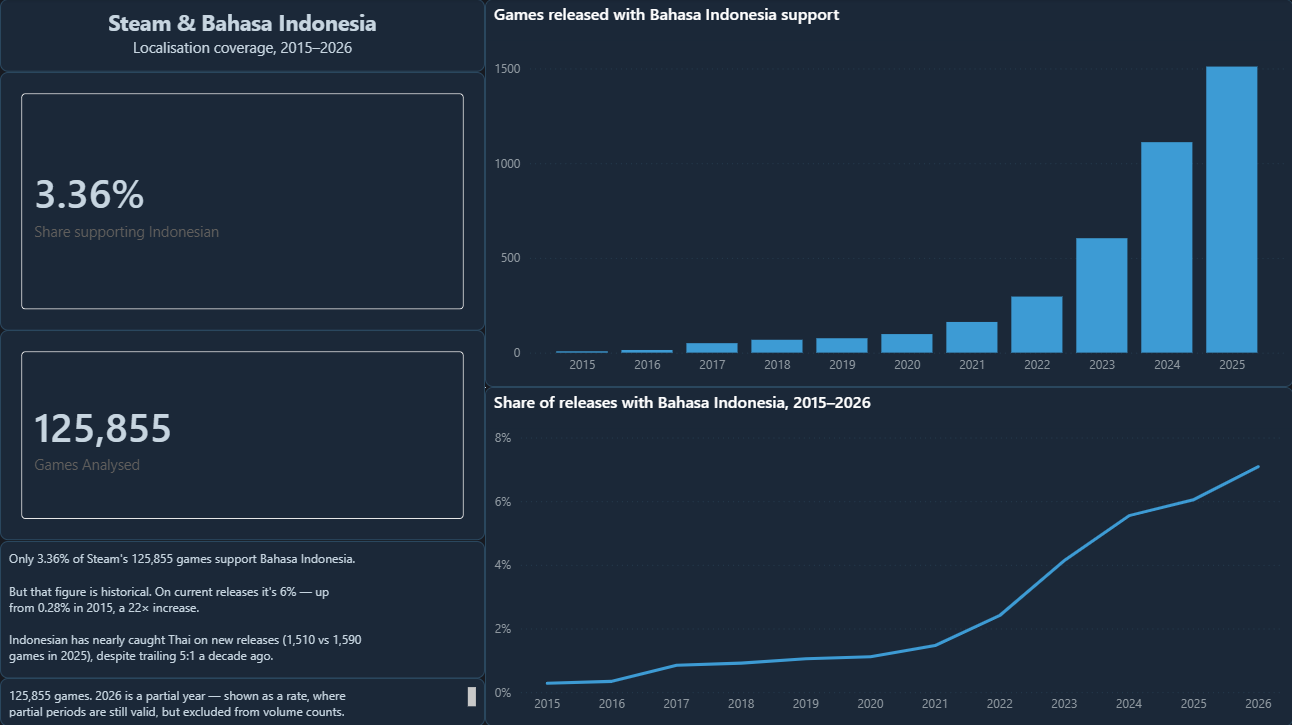

What the dashboard file says about the page in this screenshot:
{"tool":"powerbi","page":{"name":"Page 1","canvas":[1280,720],"ordinal":0},"visuals":[{"type":"lineChart","title":"Share of releases with Bahasa Indonesia, 2015–2026","fields":{"Y":["games.Pct Indonesian"],"Category":["games.release_year"]},"box":[480,384,800,336],"z":0},{"type":"clusteredColumnChart","title":"Games released with Bahasa Indonesia support","fields":{"Y":["Sum(games.has_indonesian)"],"Category":["games.release_year"]},"box":[480,0,800,384],"z":1},{"type":"cardVisual","title":"Steam games supporting Bahasa Indonesia","fields":{"Data":["games.Pct Indonesian"]},"box":[0,72,480,256],"z":2},{"type":"textbox","box":[0,536,480,136],"z":3},{"type":"textbox","box":[0,672,480,48],"z":4},{"type":"textbox","box":[0,0,480,72],"z":5},{"type":"cardVisual","fields":{"Data":["games.Games Analysed"]},"box":[0,328,480,208],"z":6}]}

Visuals, with their boxes in screenshot pixels (x1, y1, x2, y2), scaled from the page's 1280x720 canvas onto the 1292x725 screenshot:
"Share of releases with Bahasa Indonesia, 2015–2026" lineChart: 484:387:1291:724
"Games released with Bahasa Indonesia support" clusteredColumnChart: 484:0:1291:387
"Steam games supporting Bahasa Indonesia" cardVisual: 0:72:484:330
textbox: 0:540:484:677
textbox: 0:677:484:724
textbox: 0:0:484:72
cardVisual - games.Games Analysed: 0:330:484:540
